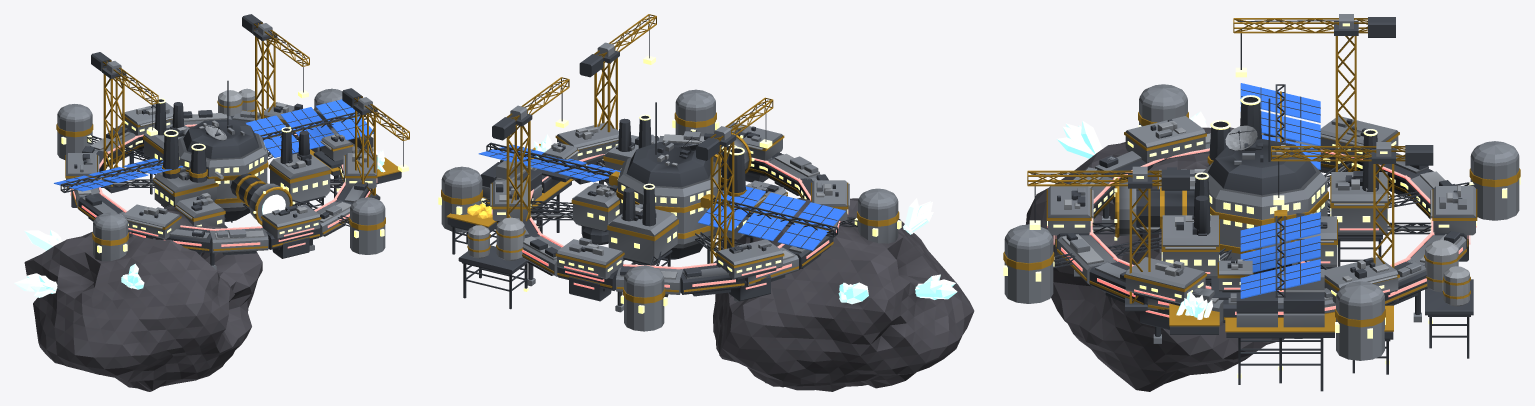
The model's file is station_l4.glb.
The picture shows the model from 3 angles, left to right: view 1: azimuth 30°, elevation 25°; view 2: azimuth 150°, elevation 25°; view 3: azimuth 270°, elevation 25°; orthographic projection. The views are drawn at different scales.
Parts seen in each view (by area): view 1: station_l4, spin_ring, crane_2_mesh, crane_1_mesh, crane_0_mesh; view 2: station_l4, spin_ring, crane_0_mesh, crane_1_mesh, crane_2_mesh; view 3: station_l4, spin_ring, crane_2_mesh, crane_1_mesh, crane_0_mesh.
Boxes of the visible parts, x1,y1,x2,y2 form: station_l4: (14,30,401,391); spin_ring: (65,102,377,269); crane_2_mesh: (342,88,409,172); crane_1_mesh: (242,14,309,98); crane_0_mesh: (91,52,158,135); station_l4: (438,50,974,391); spin_ring: (490,122,849,312); crane_0_mesh: (696,97,773,160); crane_1_mesh: (492,77,569,140); crane_2_mesh: (579,14,656,77); station_l4: (1003,20,1520,391); spin_ring: (1046,116,1477,343); crane_2_mesh: (1027,166,1189,229); crane_1_mesh: (1271,142,1433,205); crane_0_mesh: (1233,14,1395,77).
Bounding box in the file's own units: 33.3 × 21.73 × 27.6.
